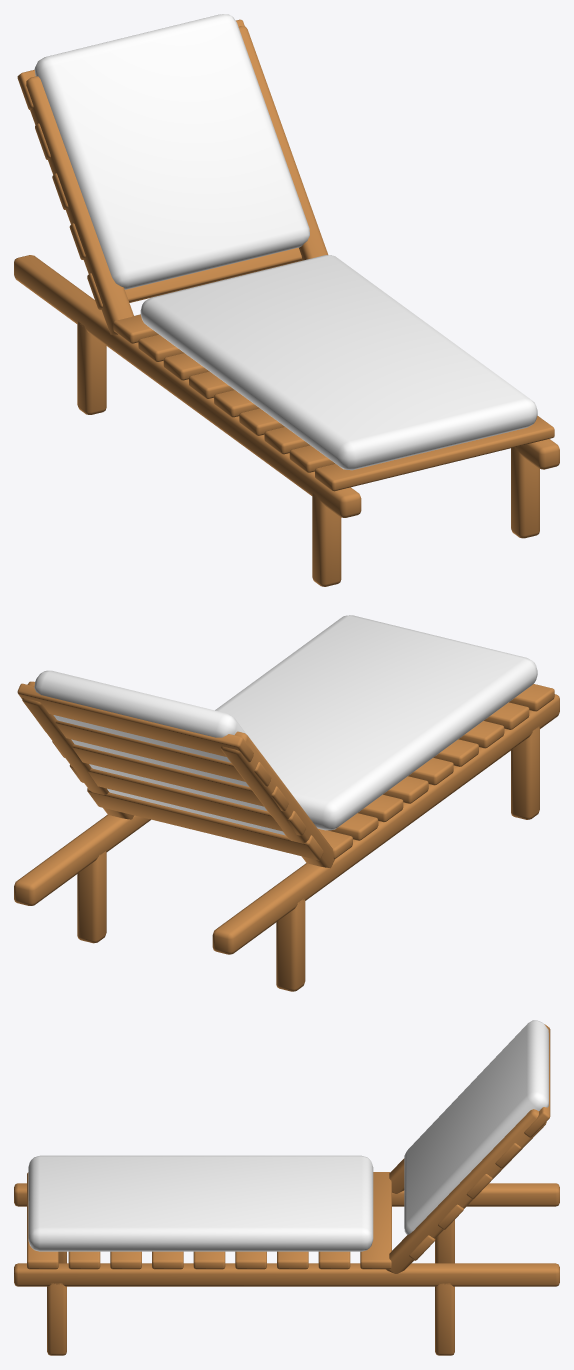
File: lounger.glb
3 views of the same model, one above another, from view 1: azimuth 30°, elevation 25°; view 2: azimuth 150°, elevation 25°; view 3: azimuth 270°, elevation 25° (orthographic). The views are drawn at different scales.
Parts seen in each view (by area): view 1: lounger; view 2: lounger; view 3: lounger.
Part boxes in pixels (<box>): lounger: <box>14,14,559,586</box>; lounger: <box>14,615,559,991</box>; lounger: <box>14,1020,559,1355</box>.
Size of the model in its own units: 0.74 by 0.9851 by 1.9.
